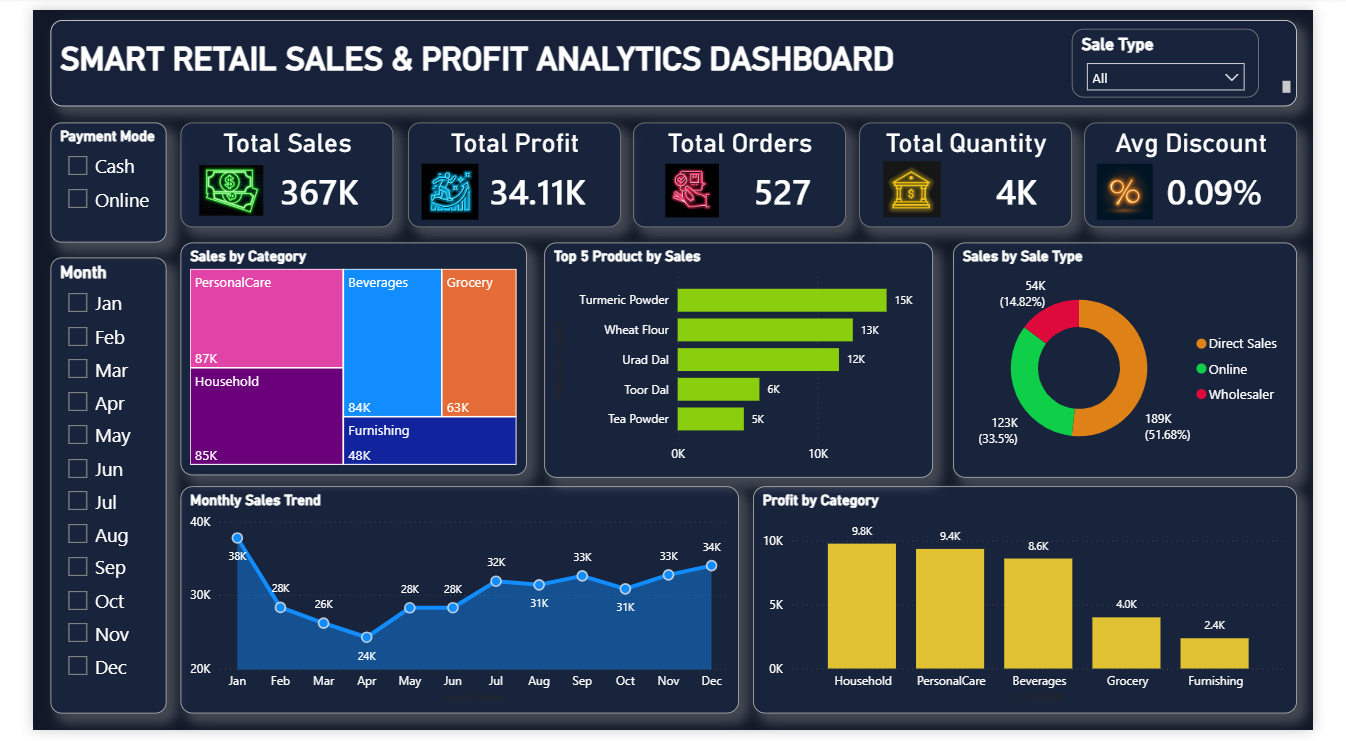

This screenshot's page, from the dashboard's own definition file:
{"tool":"powerbi","page":{"name":"Page 1","canvas":[1280,720],"ordinal":0},"visuals":[{"type":"textbox","title":"SMART RETAIL SALES & PROFIT ANALYTICS DASHBOARD","box":[17.5,10,1246.2,86.2],"z":0},{"type":"lineChart","title":"Monthly Sales Trend","fields":{"Category":["InputData.Month Name"],"Y":["Measures (2).Total Sales"]},"box":[147.5,476.2,558.8,227.5],"z":1000},{"type":"slicer","title":"Month","fields":{"Values":["InputData.Month Name"]},"box":[17.5,247.5,116.2,456.2],"z":2000},{"type":"cardVisual","title":"Total Orders","fields":{"Data":["Measures (2).Total Orders"]},"box":[600,112.5,212.5,105],"z":3000},{"type":"cardVisual","title":"Total Sales","fields":{"Data":["Measures (2).Total Sales"]},"box":[147.5,112.5,212.5,105],"z":4000},{"type":"cardVisual","title":"Total Profit","fields":{"Data":["Measures (2).Total Profit"]},"box":[375,112.5,212.5,105],"z":5000},{"type":"treemap","title":"Sales by Category","fields":{"Group":["MasterData.CATEGORY"],"Values":["Measures (2).Total Sales"]},"box":[147.5,232.5,346.2,232.5],"z":6000},{"type":"donutChart","title":"Sales by Sale Type","fields":{"Category":["InputData.SALE TYPE"],"Y":["Measures (2).Total Sales"]},"box":[920,232.5,343.8,235],"z":7000},{"type":"clusteredColumnChart","title":"Profit by Category","fields":{"Y":["Measures (2).Total Profit"],"Category":["MasterData.CATEGORY"]},"box":[720,476.2,543.8,227.5],"z":8000},{"type":"barChart","title":"Top 5 Product by Sales","fields":{"Y":["Measures (2).Total Sales"],"Category":["MasterData.PRODUCT NAME"]},"box":[511.2,232.5,388.8,235],"z":9000},{"type":"image","box":[375,153.8,83.8,56.2],"z":10000},{"type":"image","box":[166.2,151.2,63.8,58.8],"z":11000},{"type":"image","box":[587.5,153.8,143.8,53.8],"z":12000},{"type":"cardVisual","title":"Total Quantity","fields":{"Data":["Measures (2).Total Quantity Sold"]},"box":[826.2,112.5,212.5,105],"z":13000},{"type":"image","box":[826.2,151.2,106.2,56.2],"z":14000},{"type":"cardVisual","title":"Avg Discount","fields":{"Data":["Measures (2).Average Discount"]},"box":[1051.2,112.5,212.5,105],"z":15000},{"type":"image","box":[1023.8,153.8,136.2,56.2],"z":16000},{"type":"slicer","title":"Sale Type","fields":{"Values":["InputData.SALE TYPE"]},"box":[1038.8,18.8,187.5,68.8],"z":17000},{"type":"slicer","title":"Payment Mode","fields":{"Values":["InputData.PAYMENT MODE"]},"box":[17.5,112.5,116.2,120],"z":18000}]}

Visuals, with their boxes in screenshot pixels (x1, y1, x2, y2), scaled from the page's 1280x720 canvas onto the 1346x741 screenshot:
"SMART RETAIL SALES & PROFIT ANALYTICS DASHBOARD" textbox: box(18, 10, 1329, 99)
"Monthly Sales Trend" lineChart: box(155, 490, 743, 724)
"Month" slicer: box(18, 255, 141, 724)
"Total Orders" cardVisual: box(631, 116, 854, 224)
"Total Sales" cardVisual: box(155, 116, 379, 224)
"Total Profit" cardVisual: box(394, 116, 618, 224)
"Sales by Category" treemap: box(155, 239, 519, 479)
"Sales by Sale Type" donutChart: box(967, 239, 1329, 481)
"Profit by Category" clusteredColumnChart: box(757, 490, 1329, 724)
"Top 5 Product by Sales" barChart: box(538, 239, 946, 481)
image: box(394, 158, 482, 216)
image: box(175, 156, 242, 216)
image: box(618, 158, 769, 214)
"Total Quantity" cardVisual: box(869, 116, 1092, 224)
image: box(869, 156, 980, 213)
"Avg Discount" cardVisual: box(1105, 116, 1329, 224)
image: box(1077, 158, 1220, 216)
"Sale Type" slicer: box(1092, 19, 1290, 90)
"Payment Mode" slicer: box(18, 116, 141, 239)
